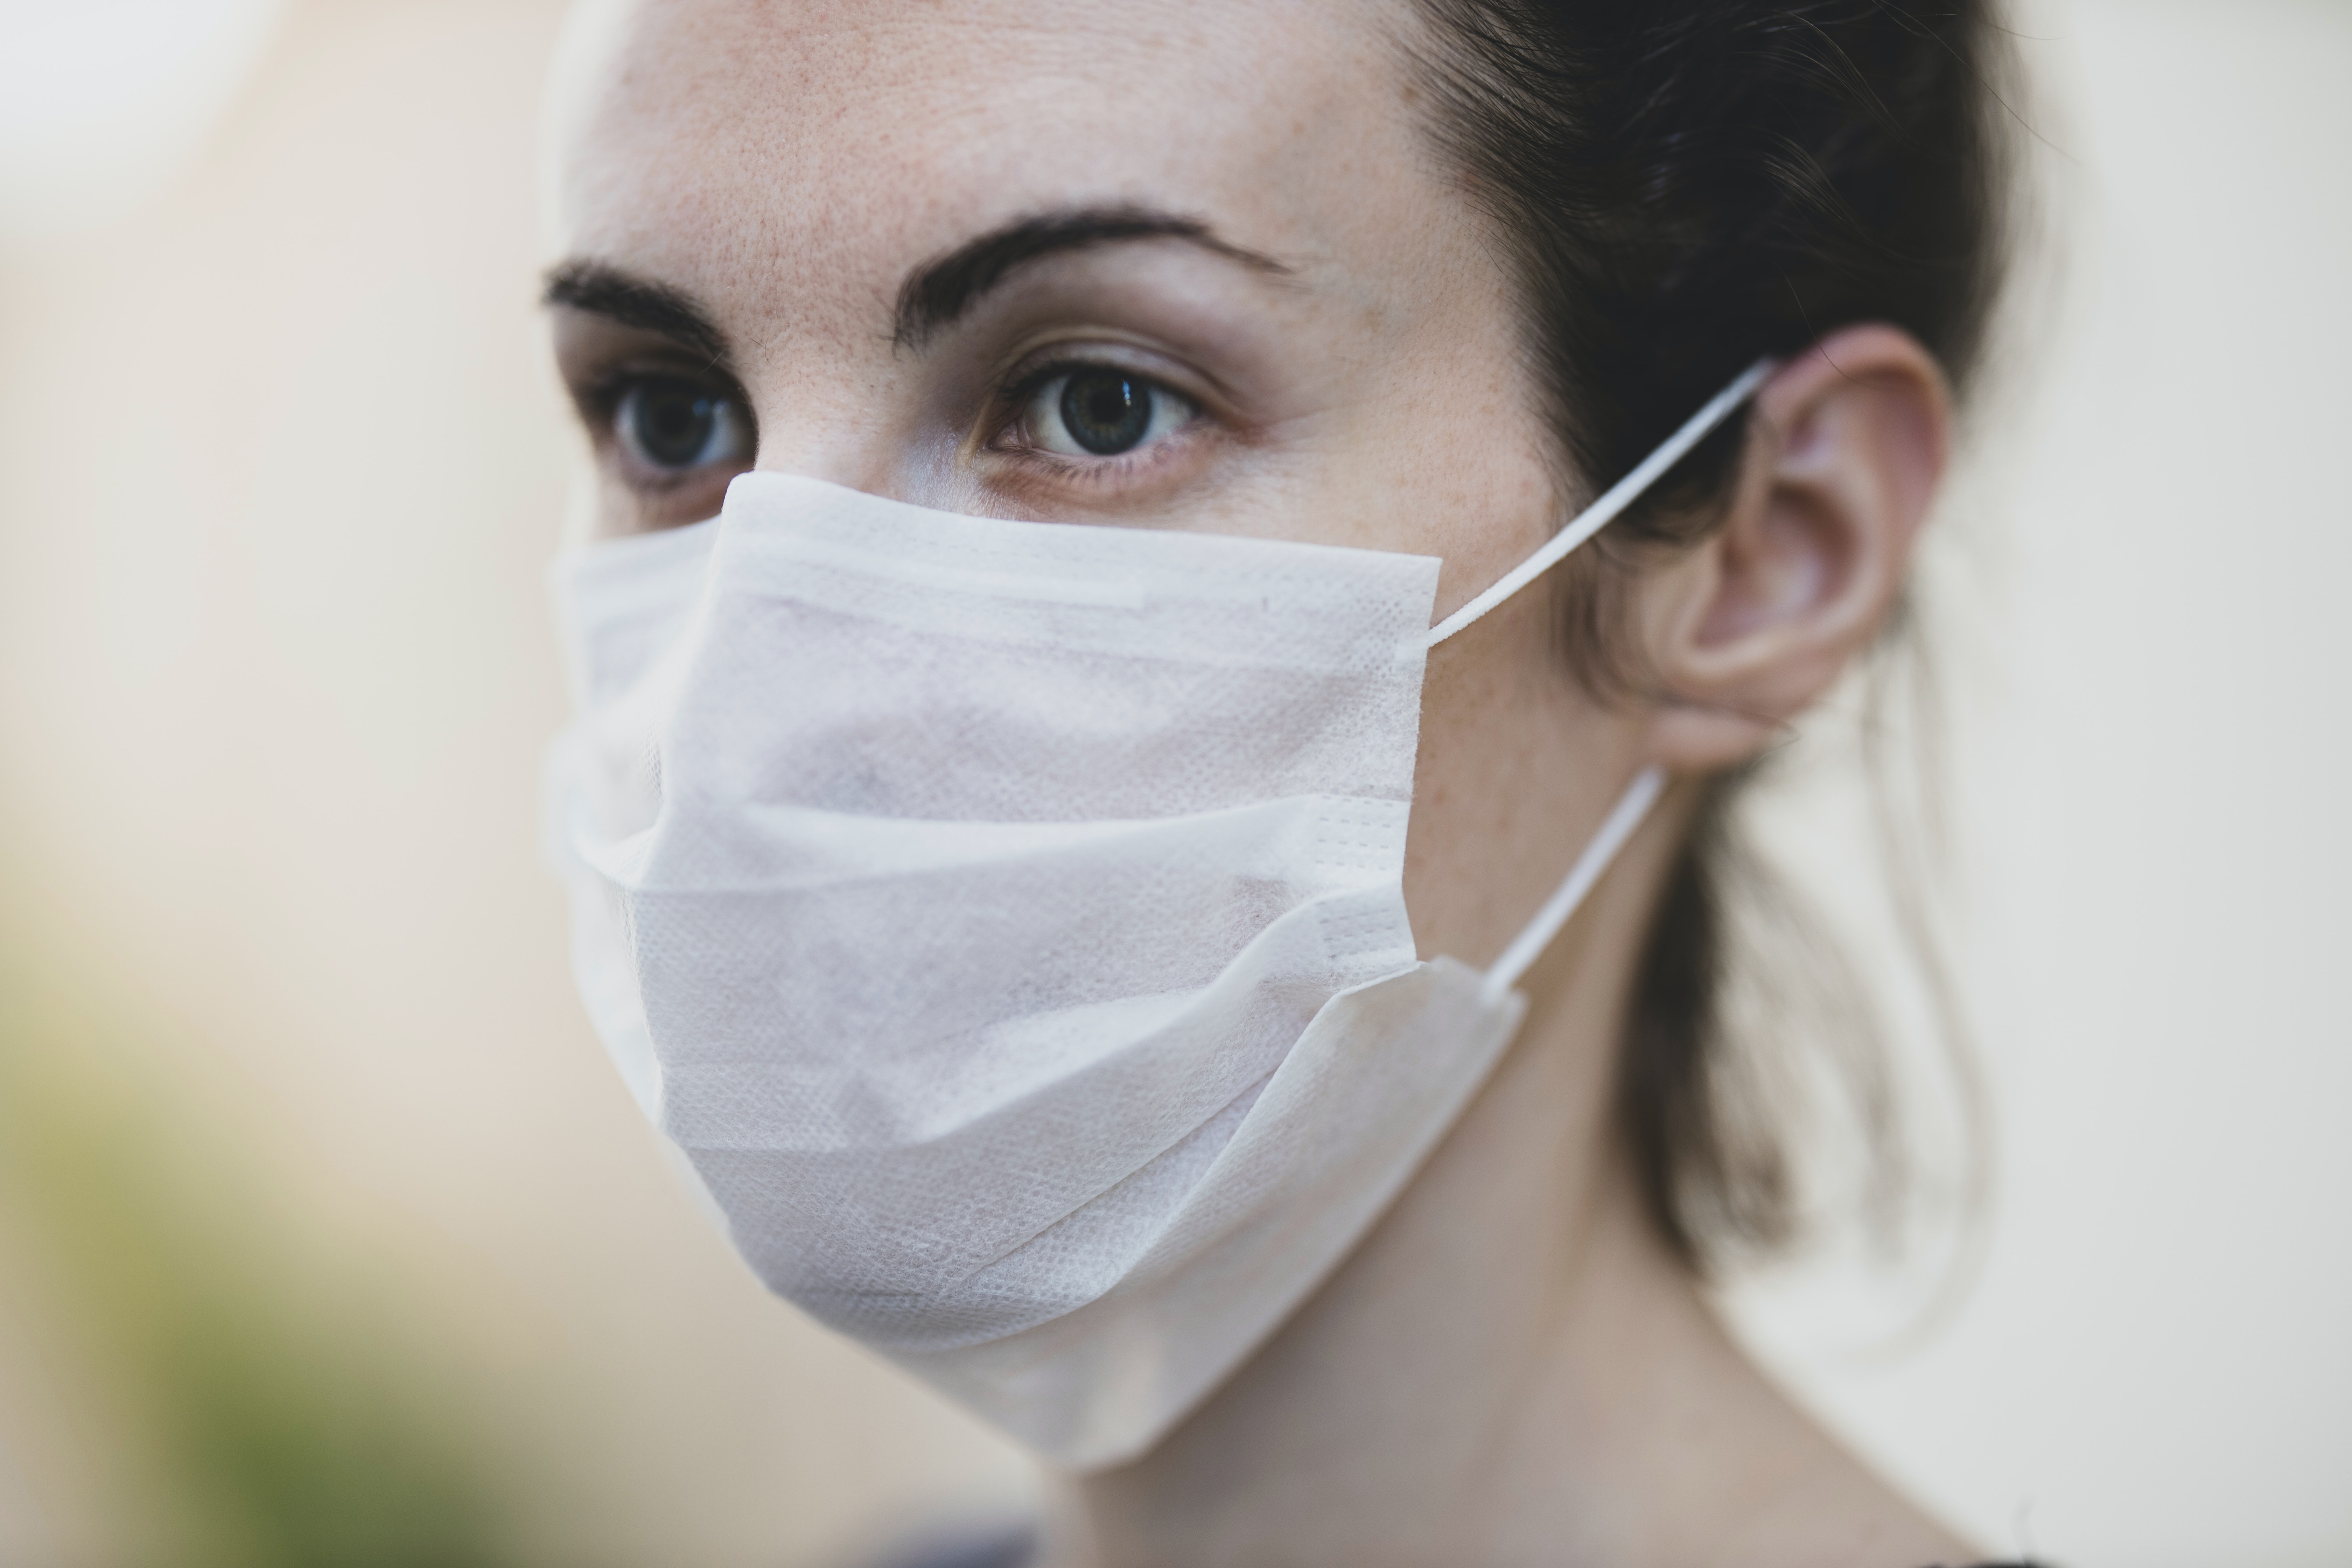mask: (510, 460, 1662, 1504)
person: (415, 6, 2018, 1542)
